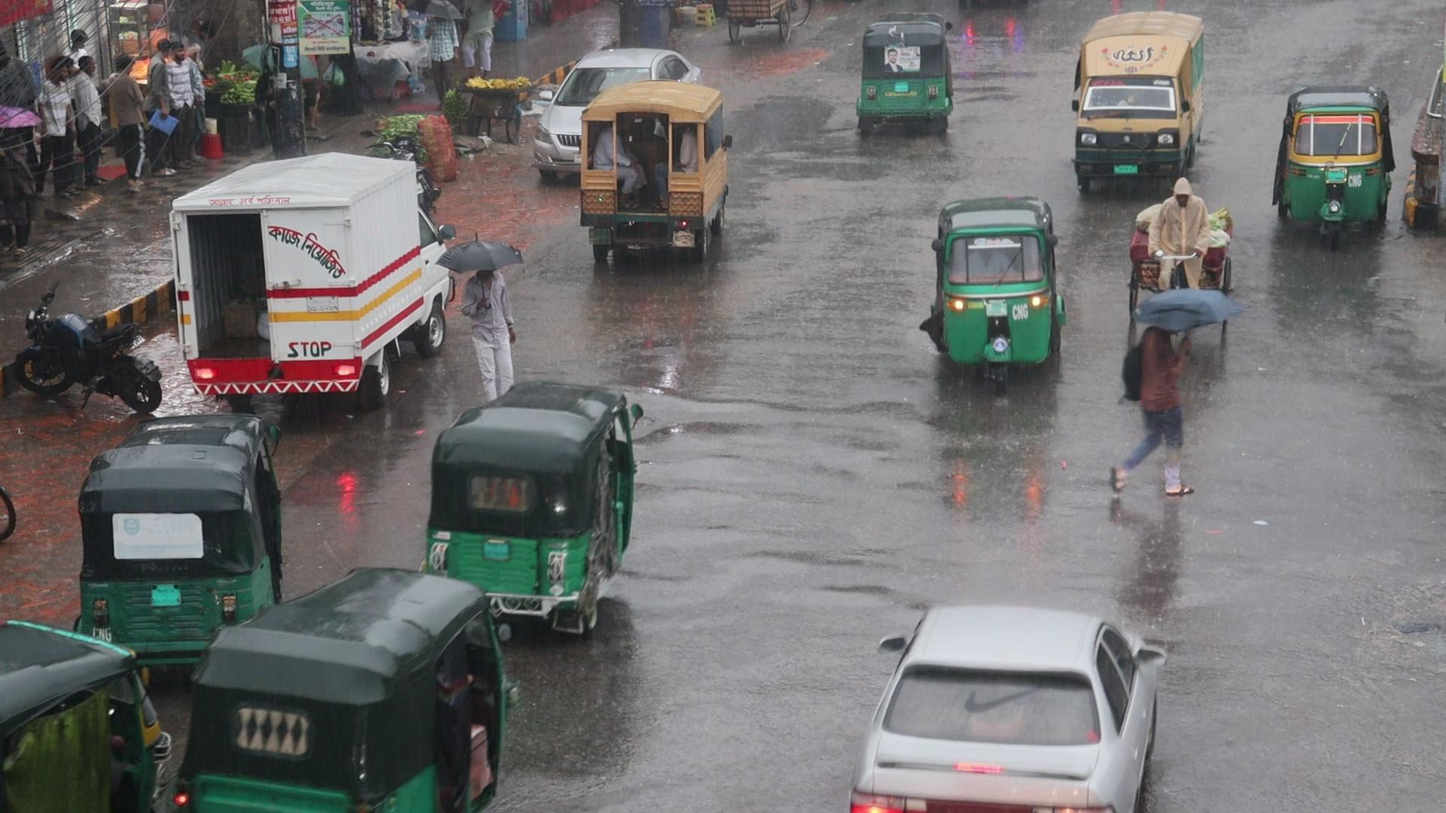Car: (850, 604, 1165, 813)
Truck: (579, 79, 732, 259), (1072, 11, 1203, 185)
